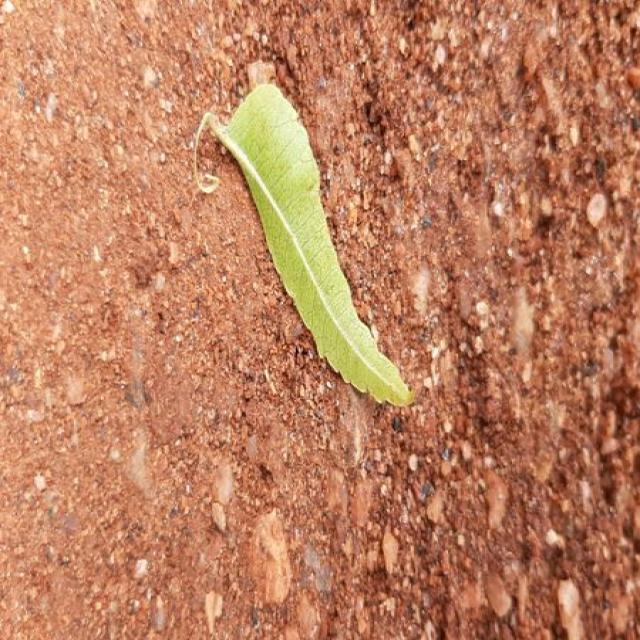neem: (202, 84, 413, 406)
